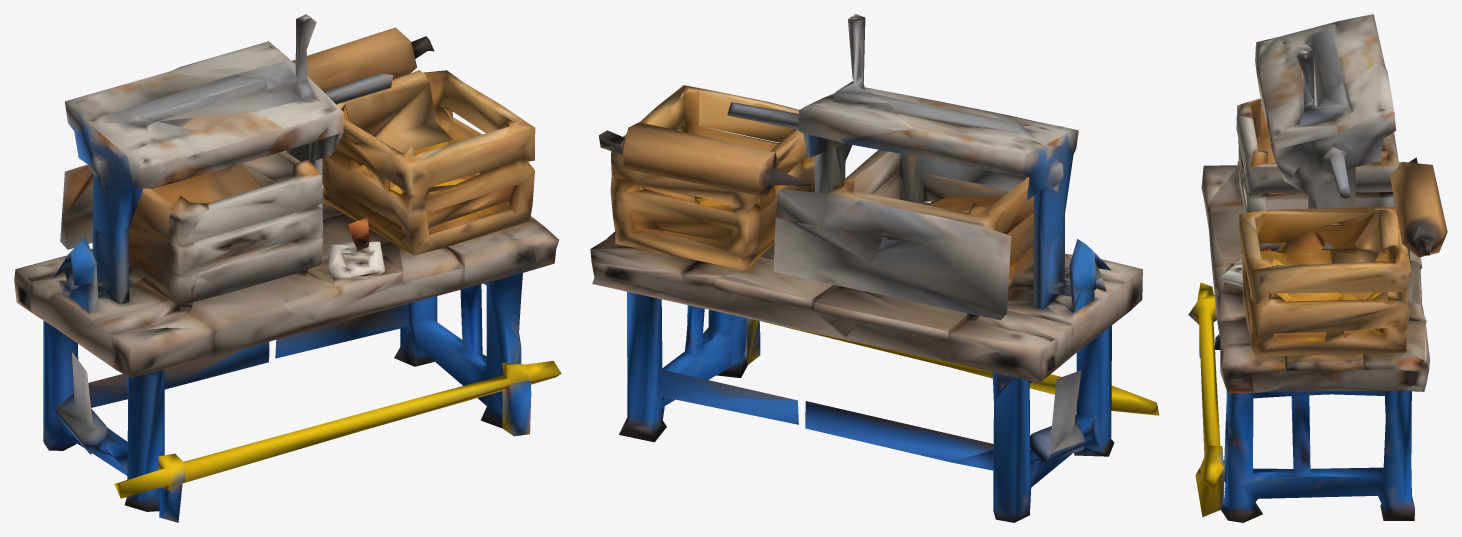
Rendered from paketleme_lod2.glb.
3 views of the same model, side by side, from view 1: azimuth 30°, elevation 25°; view 2: azimuth 150°, elevation 25°; view 3: azimuth 270°, elevation 25° (orthographic). The views are drawn at different scales.
Parts seen in each view (by area): view 1: paketleme_lod2; view 2: paketleme_lod2; view 3: paketleme_lod2.
Part boxes in pixels (x1=…): paketleme_lod2: x1=14, y1=14, x2=561, y2=522; paketleme_lod2: x1=590, y1=14, x2=1159, y2=522; paketleme_lod2: x1=1188, y1=14, x2=1447, y2=522.
Size of the model in its own units: 1.47 by 1.29 by 0.7769.
Materials: 1 (1 with a texture image).
